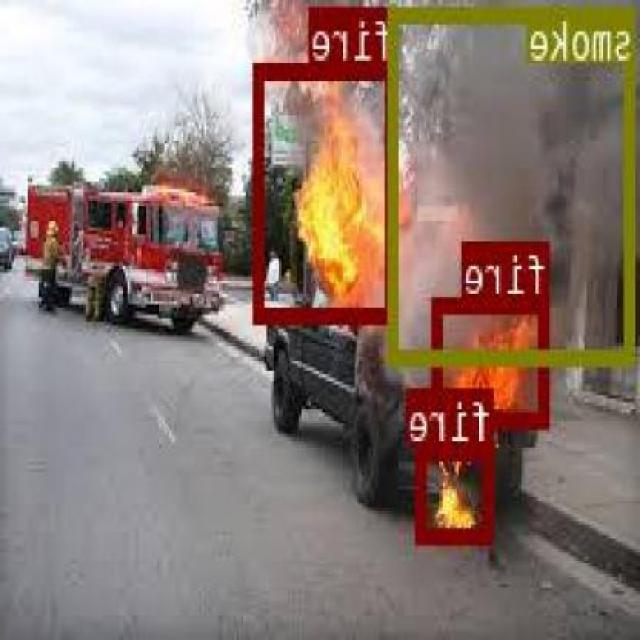Fire: (256, 60, 398, 320), (434, 294, 552, 426), (419, 440, 496, 542)
Smoke: (390, 4, 636, 363)
